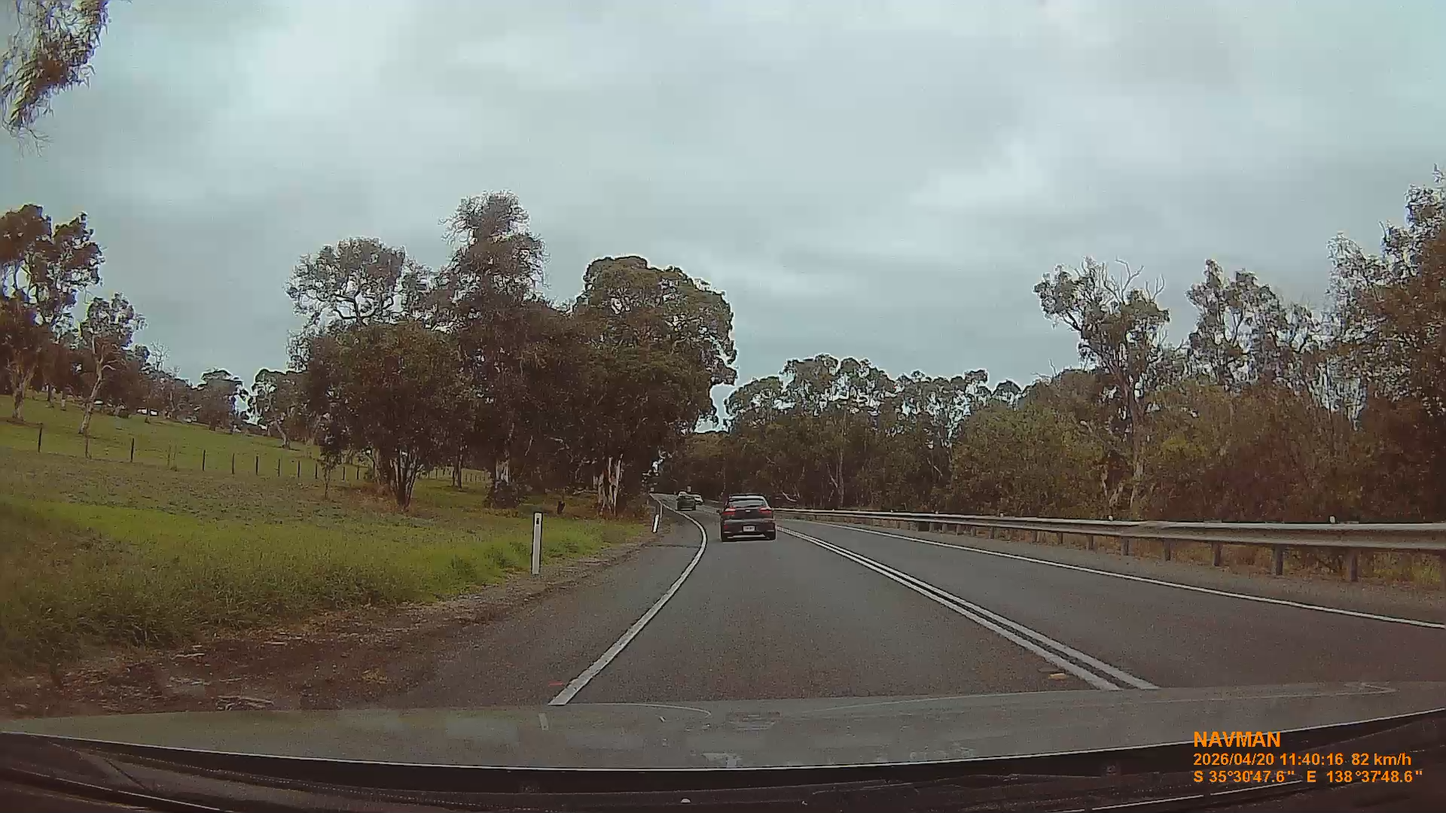road barriers: (776, 510, 1445, 585)
